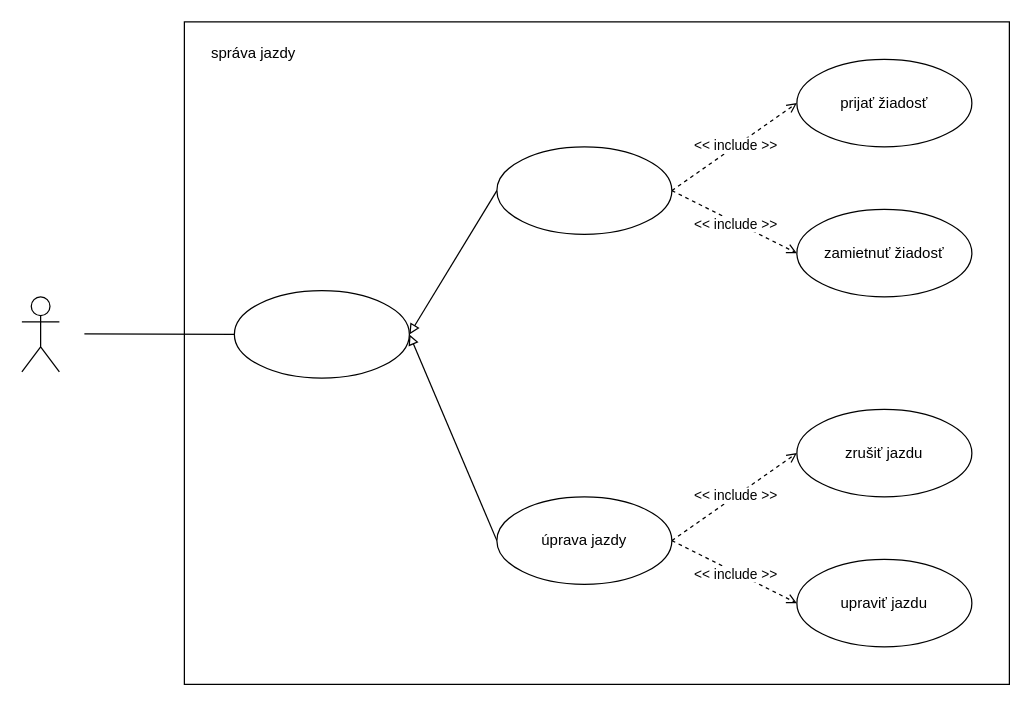
The diagram is 1031 pixels wide and 706 high, and some of its shapes have lost their labels. The shapes that lost their labels are listed below. From the top down, each one's box as (x1, y1, x2, y2) in pixels, then its label:
(496, 146, 672, 234): správa žiadostí
(21, 296, 59, 372): šofér
(233, 289, 409, 378): jazda
